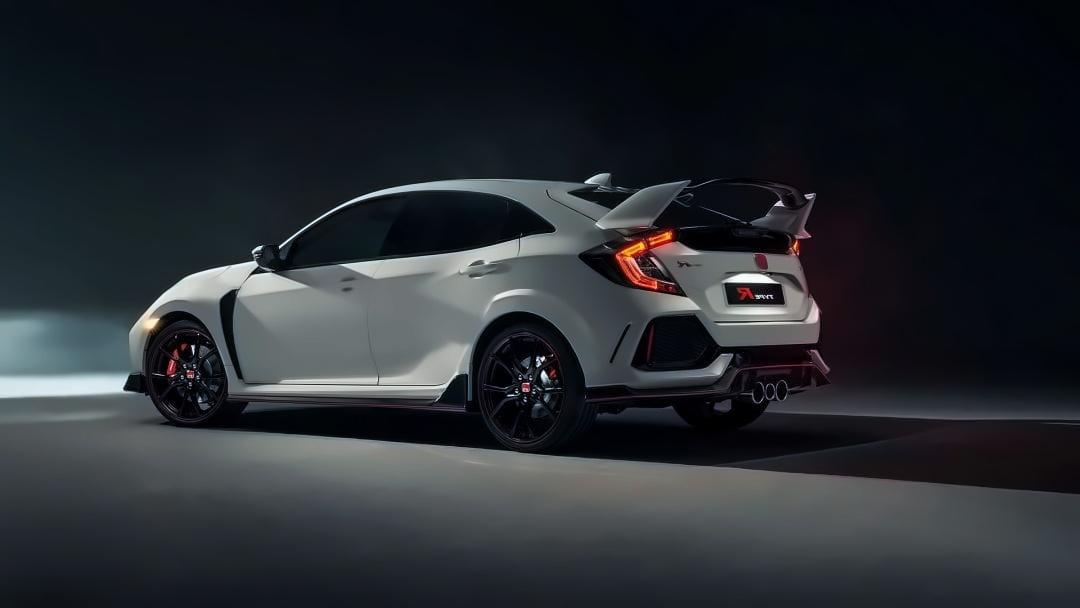Car boot: (651, 226, 812, 324)
Front bumper: (119, 264, 207, 409)
Passenger-s door - -F-L-: (231, 174, 408, 409)
Passenger-s door - -R-L-: (366, 169, 525, 405)
Rear bumper: (596, 296, 838, 417)
Rear light - -L-: (612, 223, 681, 304)
Side mirror - -L-: (218, 353, 463, 419)
